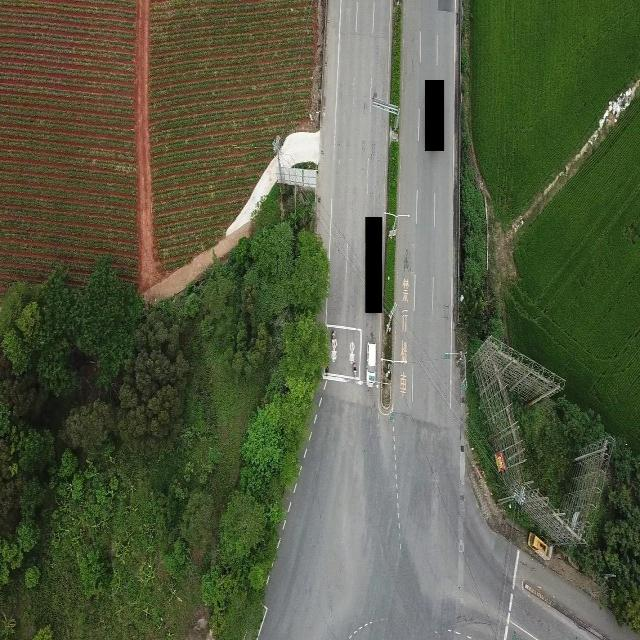bike: (324, 358, 330, 378), (331, 328, 336, 346), (353, 360, 357, 378)
car: (366, 340, 377, 387)
